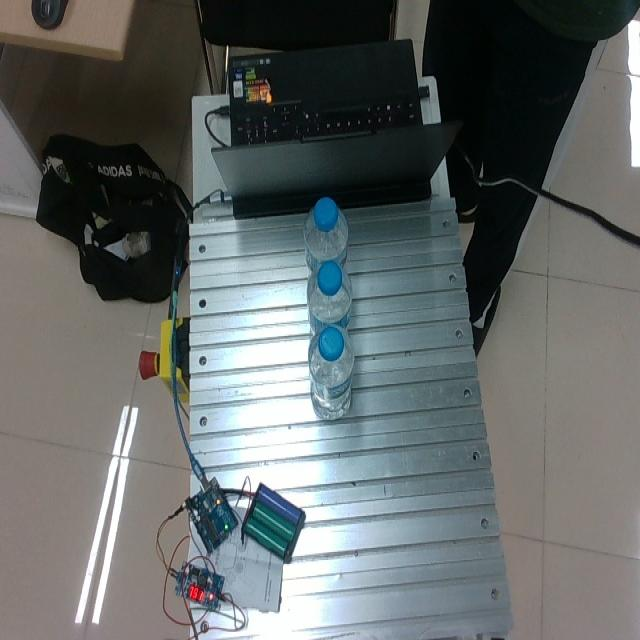lavie: (307, 322, 355, 418), (303, 199, 349, 277), (306, 260, 353, 335)
